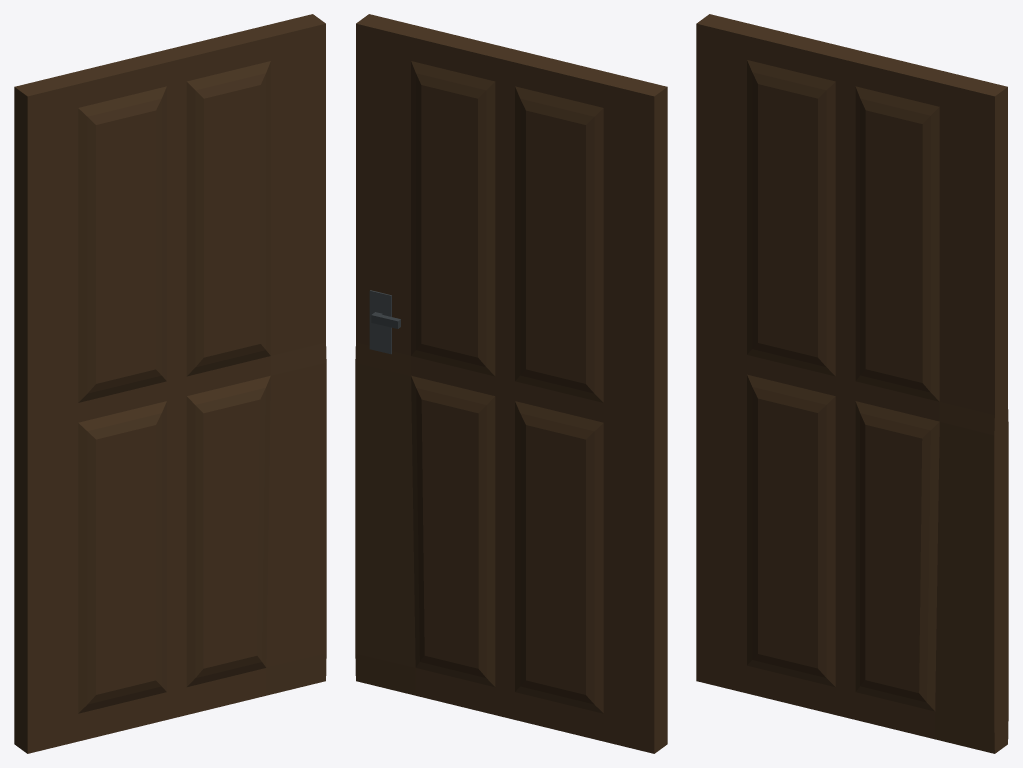
File: InteriorDoor.fbx
The picture shows the model from 3 angles, left to right: view 1: azimuth 30°, elevation 25°; view 2: azimuth 150°, elevation 25°; view 3: azimuth 330°, elevation 25°; orthographic projection.
Parts seen in each view (by area): view 1: Cube.008; view 2: Cube.008, Cube.009; view 3: Cube.008.
Part boxes in pixels (x1=…): Cube.008: x1=14, y1=14, x2=326, y2=753; Cube.008: x1=355, y1=14, x2=667, y2=753; Cube.009: x1=369, y1=290, x2=391, y2=354; Cube.008: x1=696, y1=14, x2=1008, y2=753.
Size of the model in its own units: 329 by 693 by 41.2.
